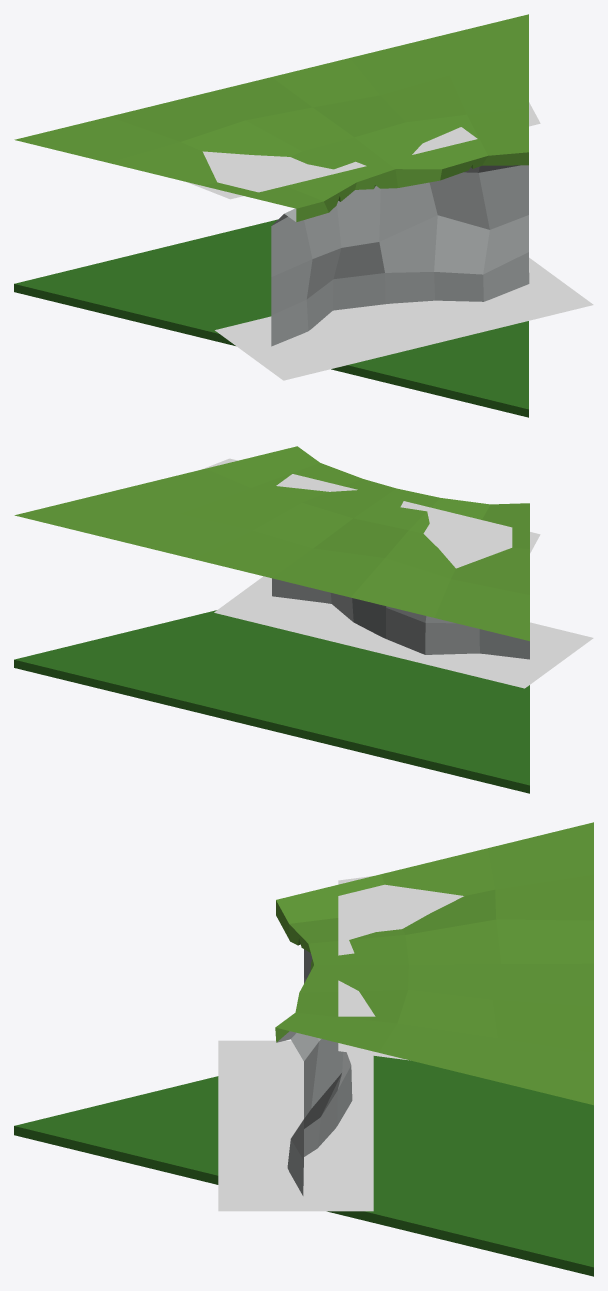
3 renders of one model, top to bottom at view 1: azimuth 30°, elevation 25°; view 2: azimuth 150°, elevation 25°; view 3: azimuth 270°, elevation 25°, orthographic. The views are drawn at different scales.
Visible parts, largest first — view 1: hill.003, ground.003, rocks3, bushes3; view 2: hill.003, ground.003, rocks3, bushes3; view 3: hill.003, ground.003, rocks3, bushes3.
Part boxes in pixels (x1,y1,x2,y2): hill.003: (14, 14, 529, 346); ground.003: (14, 219, 528, 417); rocks3: (215, 257, 593, 380); bushes3: (186, 102, 540, 199); hill.003: (14, 446, 529, 659); ground.003: (14, 610, 529, 793); rocks3: (214, 576, 593, 688); bushes3: (201, 458, 540, 568); hill.003: (275, 822, 593, 1195); ground.003: (14, 1056, 593, 1276); rocks3: (218, 1040, 373, 1211); bushes3: (338, 875, 463, 1060).
Size of the model in its own units: 1 by 0.2924 by 0.8661.
